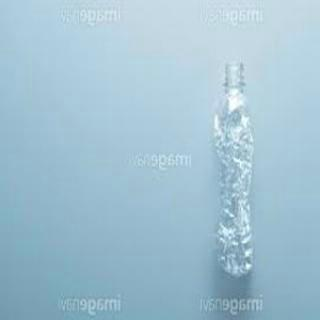Plastic: (215, 56, 252, 281)
